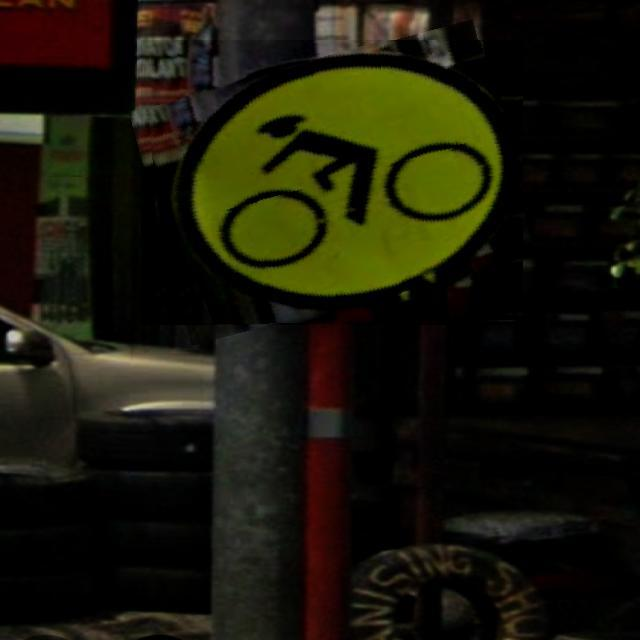bike lane: (141, 40, 523, 325)
